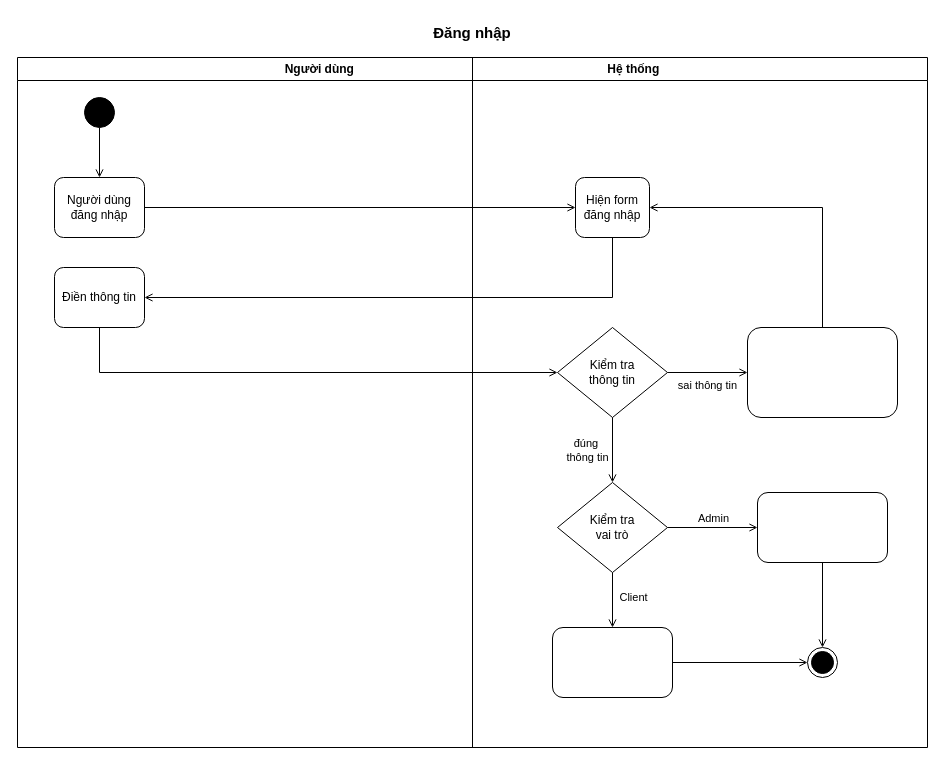
Some shapes in this 945 by 766 pixel diagram are drawn without their labels. The centre of each missing label's shape, as x and y in pixels:
"Chuyển đến Giao diện Quản lý (dashboard quản trị)" belongs at pixel 822 527.
"Chuyển đến Giao diện tài khoản Khách" belongs at pixel 612 662.
"Thông báo sai thông tin đăng nhập, yêu cầu đăng nhập lại" belongs at pixel 822 372.
